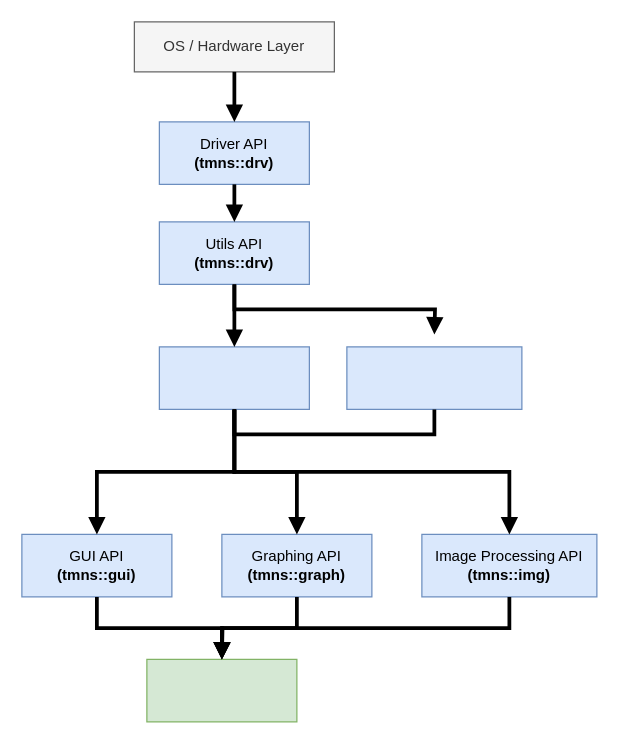
Some shapes in this 619 by 744 pixel diagram are drawn without their labels. The shapes that lost their labels are listed below. From the top down, each one's box as (x1, y1, x2, y2) in pixels, then its label:
(158, 346, 309, 409): Logging API (tmns::log)
(346, 346, 522, 409): Math API (tmns::math)
(146, 658, 297, 722): Toolbox Application (tmns::calc)
